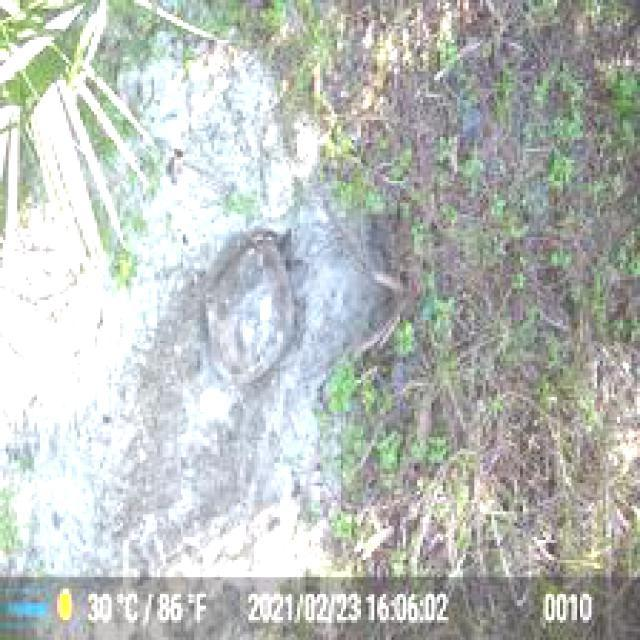tortoise: (203, 226, 309, 386)
